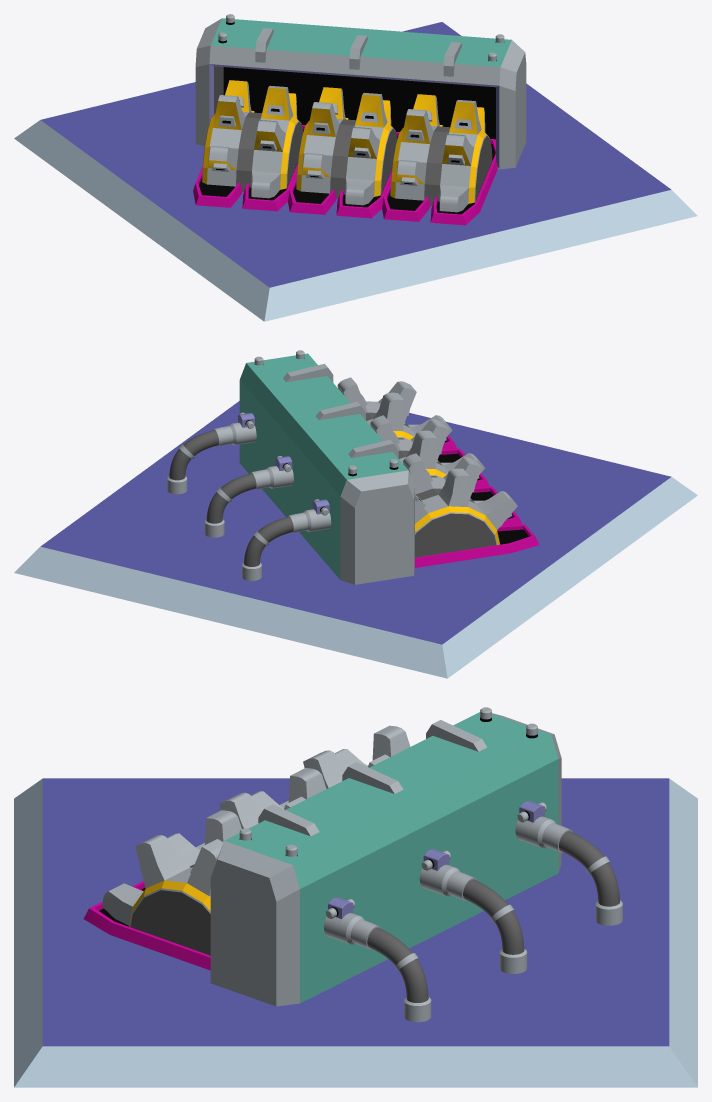
Rendered from 62_Haarvester_FUD7.fbx.
3 views of the same model, one above another, from view 1: azimuth 30°, elevation 25°; view 2: azimuth 150°, elevation 25°; view 3: azimuth 270°, elevation 25° (orthographic). The views are drawn at different scales.
Visible parts, largest first — view 1: foundation7, pCylinder114 (×3), pCube133, pPlane39 (×3), pPlane38 (×3); view 2: foundation7, pCube133, pCylinder114 (×3), pCylinder123, pCylinder124, pCylinder122, pPlane39, pCube134, pCube136, pCube135; view 3: foundation7, pCube133, pCylinder114 (×3), pCylinder123, pCylinder124, pCylinder122, pPlane38, pCube135, pCube134, pCube136.
Boxes of the visible parts, box(x1,y1,x2,y2) form: foundation7: box(14, 22, 697, 321); pCylinder114 (×3): box(202, 80, 492, 212); pCube133: box(195, 18, 526, 169); pPlane39 (×3): box(193, 166, 430, 221); pPlane38 (×3): box(242, 125, 497, 225); foundation7: box(14, 401, 697, 678); pCube133: box(239, 353, 414, 584); pCylinder114 (×3): box(337, 377, 517, 557); pCylinder123: box(204, 456, 293, 537); pCylinder124: box(167, 413, 256, 494); pCylinder122: box(241, 499, 331, 580); pPlane39: box(415, 524, 539, 567); pCube134: box(283, 363, 333, 382); pCube136: box(348, 439, 398, 458); pCube135: box(315, 401, 365, 420); foundation7: box(14, 778, 697, 1087); pCube133: box(210, 712, 561, 1006); pCylinder114 (×3): box(102, 725, 410, 955); pCylinder123: box(419, 849, 527, 973); pCylinder124: box(324, 897, 431, 1022); pCylinder122: box(515, 801, 622, 925); pPlane38: box(83, 901, 210, 970); pCube135: box(342, 762, 403, 793); pCube134: box(258, 804, 319, 836); pCube136: box(426, 720, 487, 751).
Size of the model in its own units: 2 by 0.8183 by 2.
